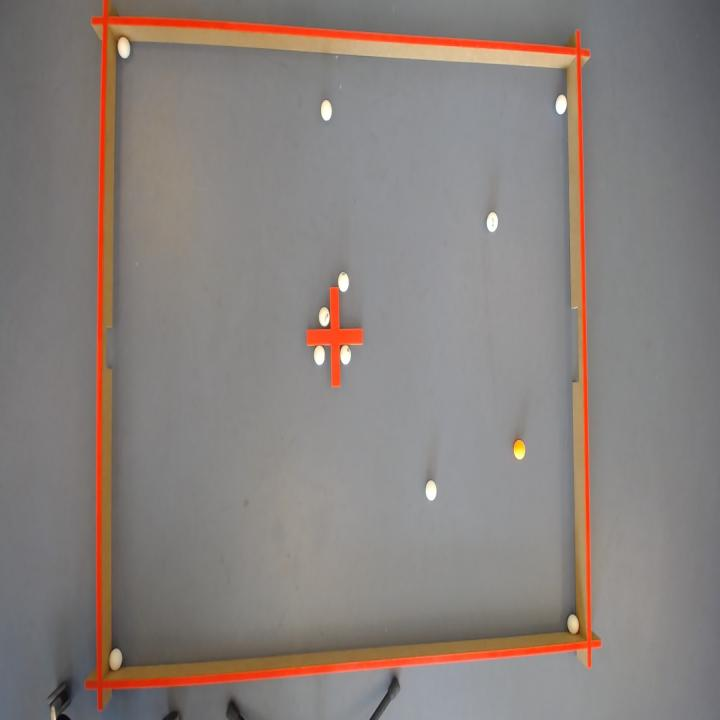orange: (514, 439, 526, 460)
white: (108, 649, 122, 671), (117, 35, 129, 57), (487, 211, 499, 231), (556, 93, 568, 113), (568, 615, 580, 635), (321, 98, 332, 119), (338, 271, 349, 291), (319, 306, 330, 326), (340, 344, 351, 364), (426, 480, 437, 500), (314, 345, 325, 364)
